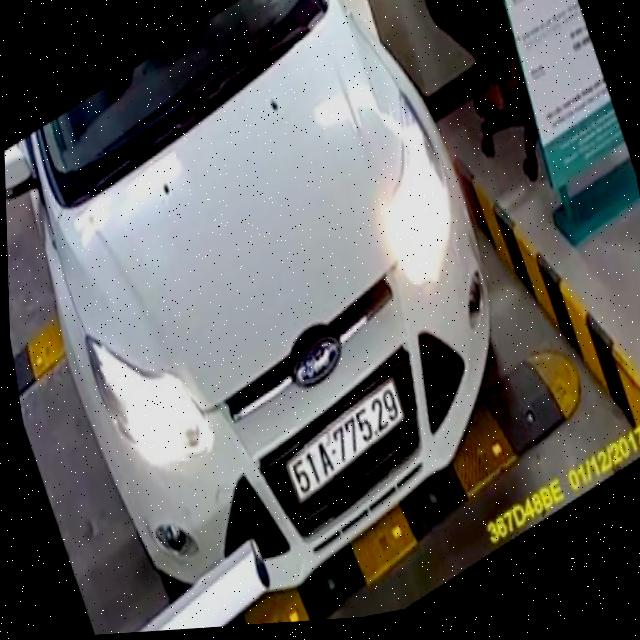car: (0, 0, 528, 639)
plate: (272, 377, 416, 509)
